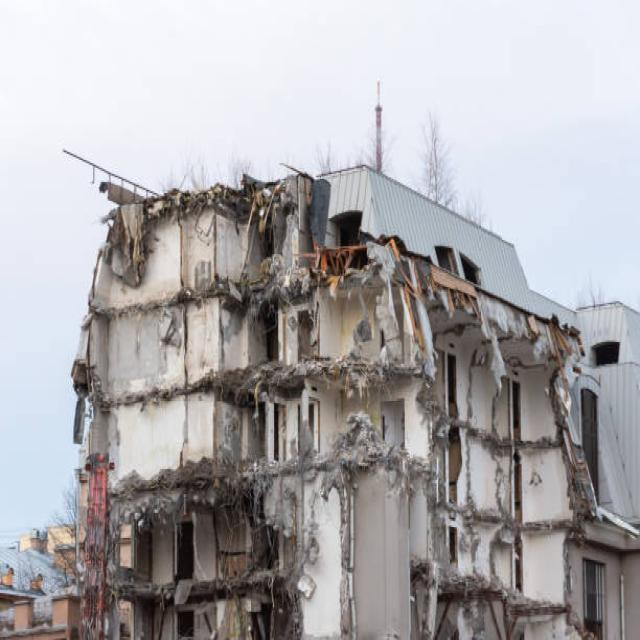Destroyed_building: (55, 0, 628, 640)
